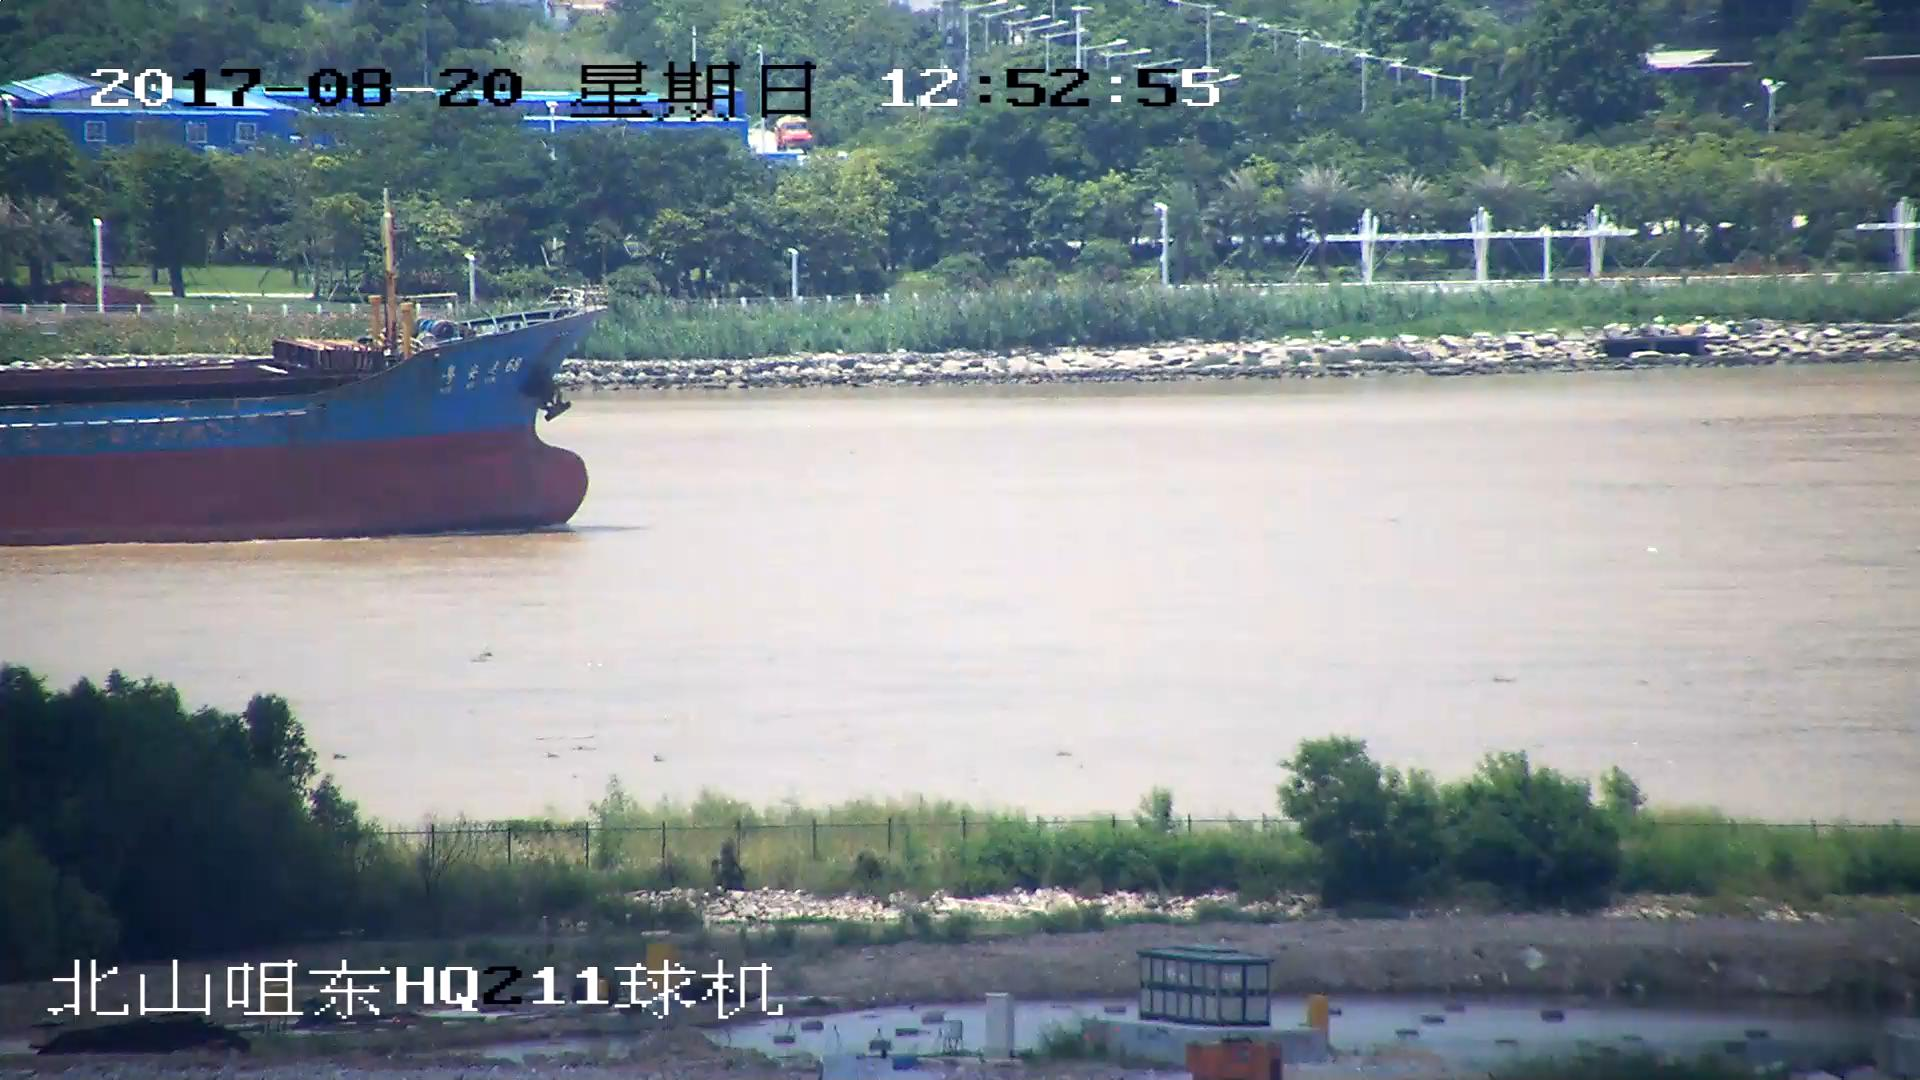general cargo ship: (1, 291, 610, 539)
